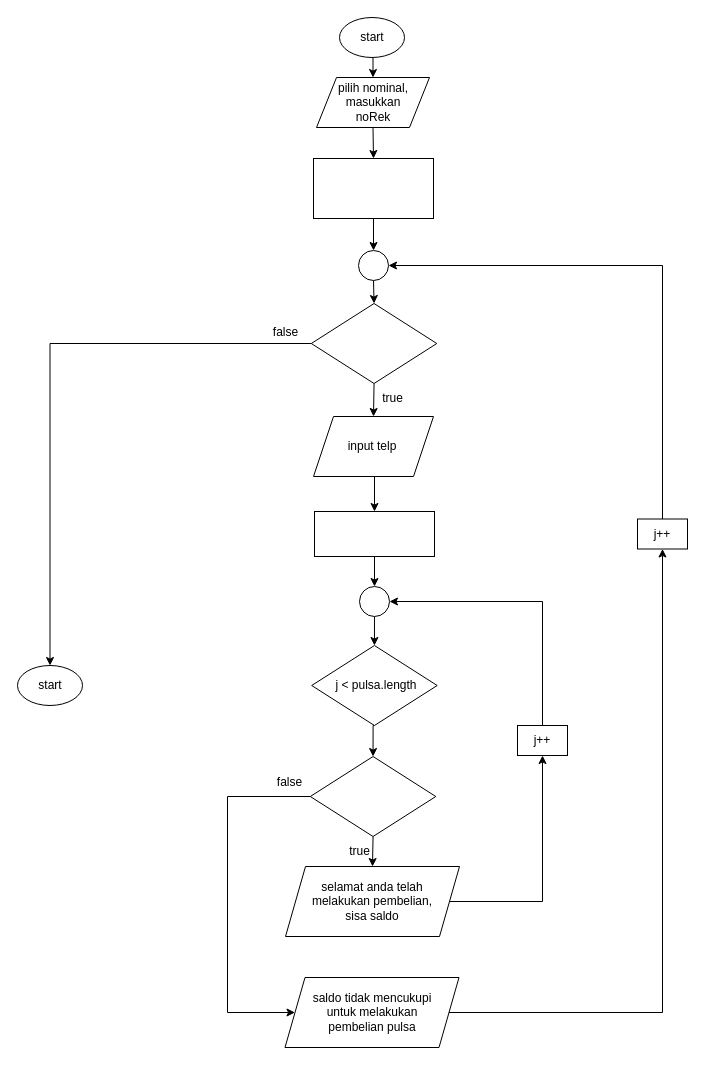
Some shapes in this 705 by 1065 pixel diagram are drawn without their labels. The centre of each missing label's shape, as x and y in pixels:
i < noRek.length: [373,343]
int j = 0: [374,533]
int noRek, int i = 0: [373,188]
saldo[i] >= pulsa[j] saldo[i] -= pulsa[0]: [372,796]
